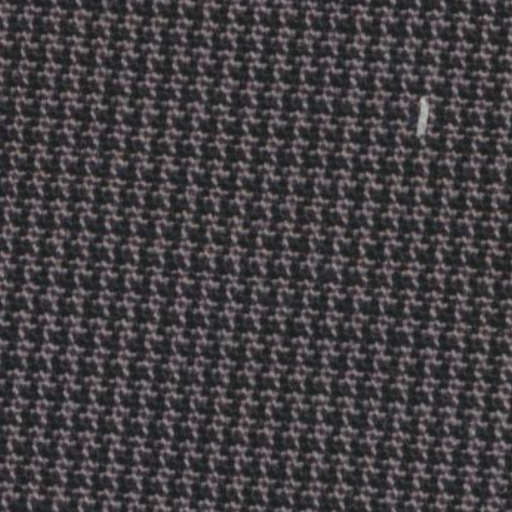DuanSha: (400, 80, 445, 146)
